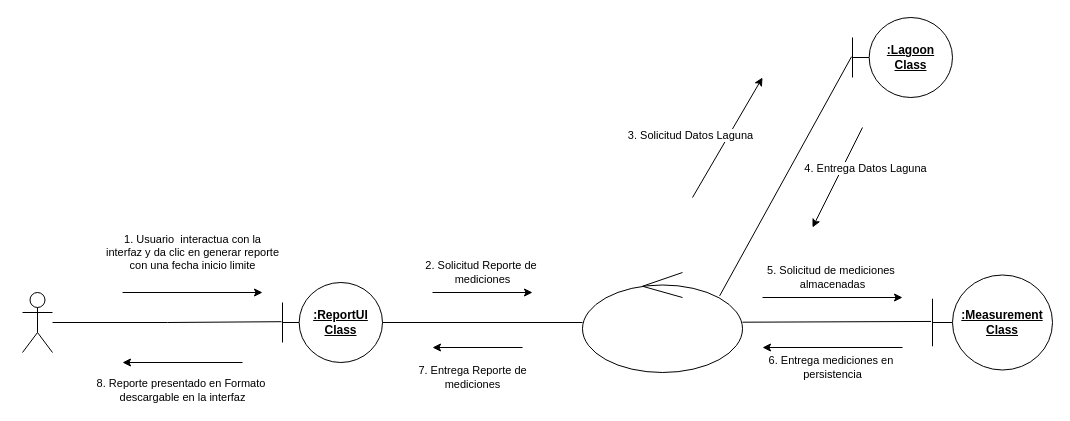
Some shapes in this 1070 by 421 pixel diagram are drawn without their labels. Here are the shapes that lost their labels. From the top down, the centre of each, then its label:
At pixel 37 322: "Usuario".
At pixel 662 322: ":GenerateReportUseCase".
